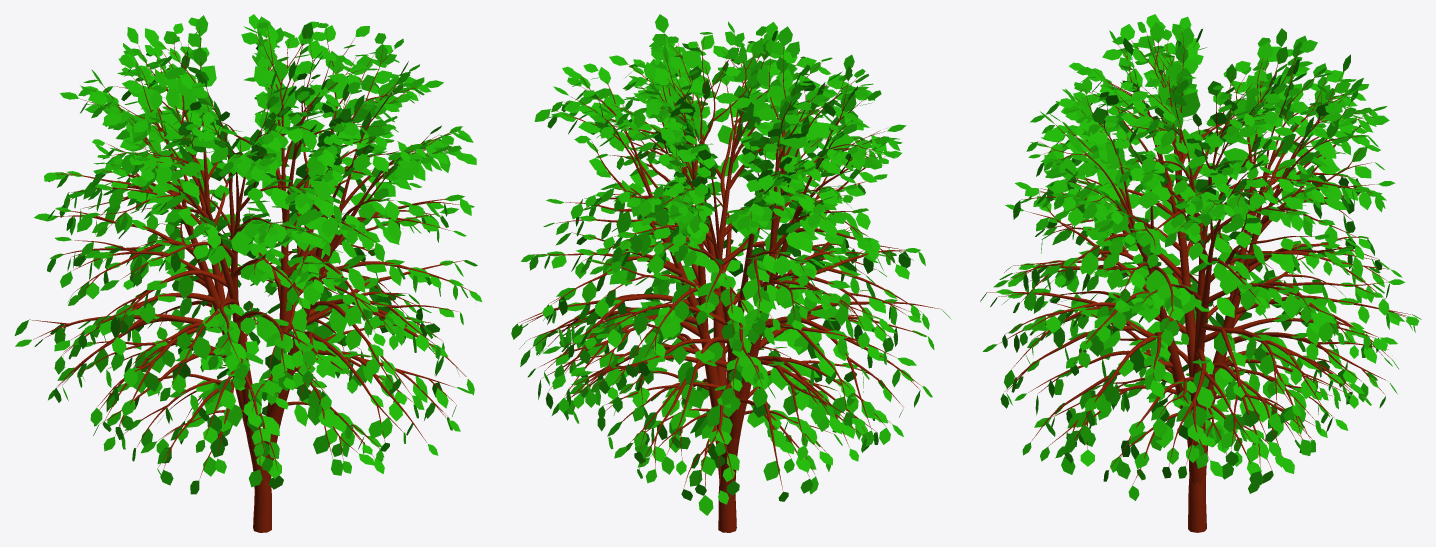
Rendered from tree2.fbx.
The picture shows the model from 3 angles, left to right: view 1: azimuth 30°, elevation 25°; view 2: azimuth 150°, elevation 25°; view 3: azimuth 270°, elevation 25°; orthographic projection. The views are drawn at different scales.
Visible parts, largest first — view 1: leaves, tree; view 2: leaves, tree; view 3: leaves, tree.
Part boxes in pixels (bbox=[...]): leaves: bbox=[14, 14, 482, 494]; tree: bbox=[29, 27, 475, 532]; leaves: bbox=[511, 14, 951, 515]; tree: bbox=[519, 33, 941, 532]; leaves: bbox=[980, 14, 1421, 500]; tree: bbox=[987, 33, 1410, 532].
Bounding box in the file's own units: 968 × 1152 × 960.
